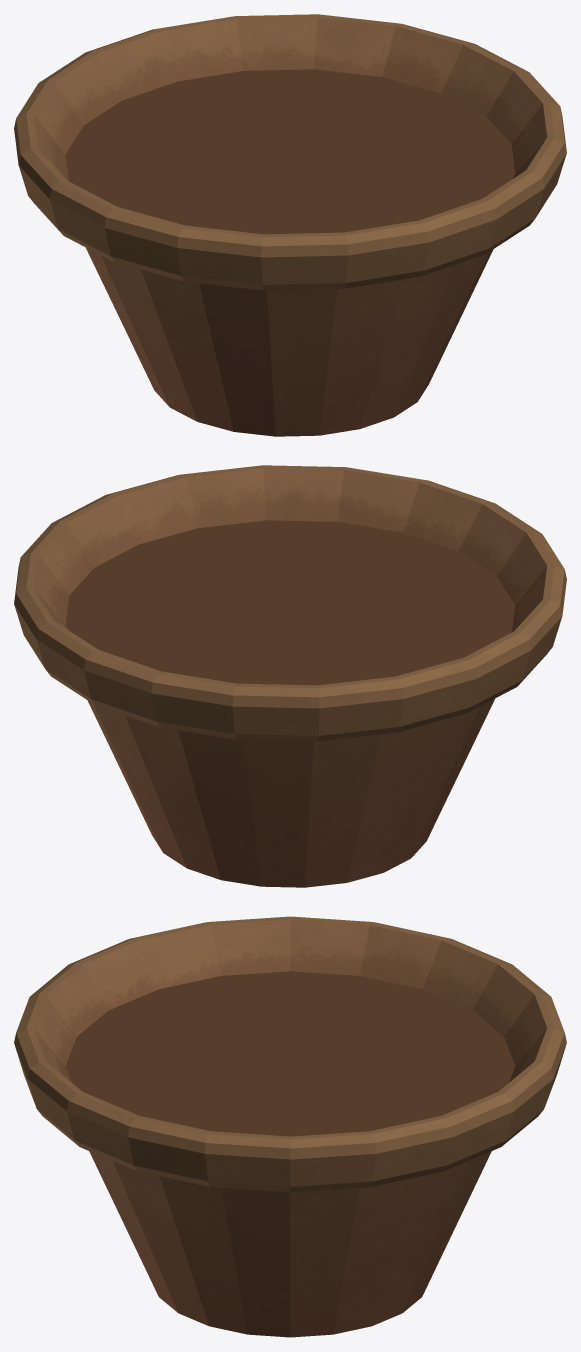
File: Ueki.fbx
3 views of the same model, one above another, from view 1: azimuth 30°, elevation 25°; view 2: azimuth 150°, elevation 25°; view 3: azimuth 270°, elevation 25° (orthographic).
Visible parts, largest first — view 1: Ueki; view 2: Ueki; view 3: Ueki.
Part boxes in pixels (x1,y1,x2,y2): Ueki: (14,14,566,436); Ueki: (14,465,566,887); Ueki: (14,916,566,1337).
Bounding box in the file's own units: 3.99 × 2 × 3.99.
